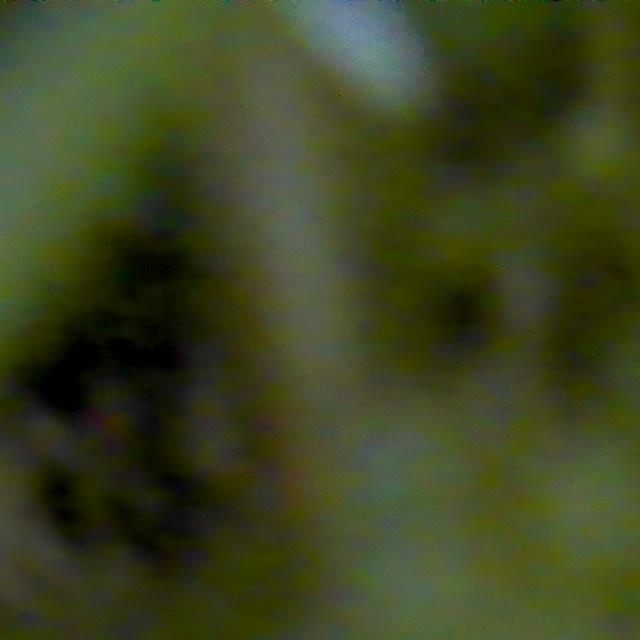SeaGrape: (352, 522, 489, 640)
